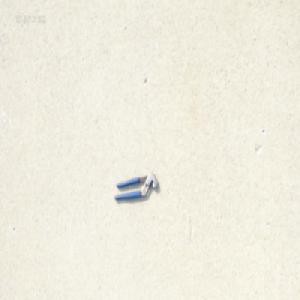Pliers: (113, 171, 159, 201)
